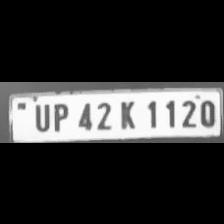0: (196, 96, 216, 126)
1: (140, 97, 160, 129), (159, 96, 177, 128)
2: (92, 98, 114, 130), (178, 96, 196, 128)
4: (72, 98, 94, 130)
K: (114, 96, 140, 130)
P: (50, 100, 70, 132)
U: (30, 100, 50, 132)
